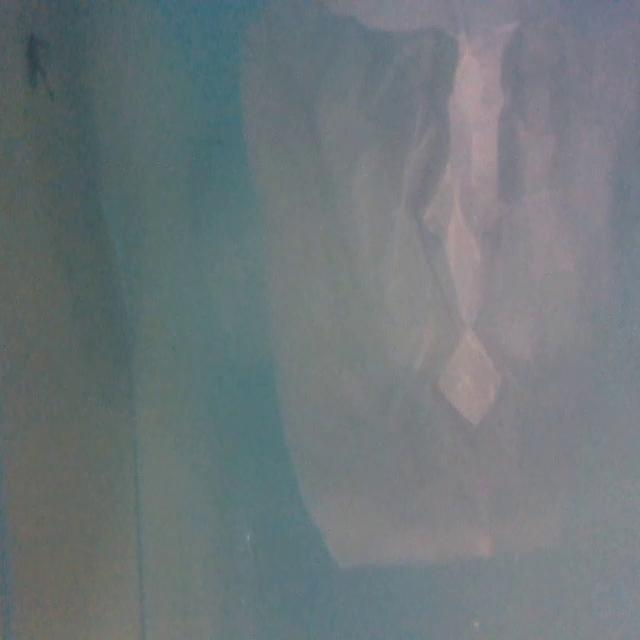plastic bags: (255, 0, 497, 581)
